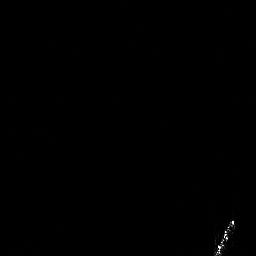ship: (212, 216, 237, 256)
